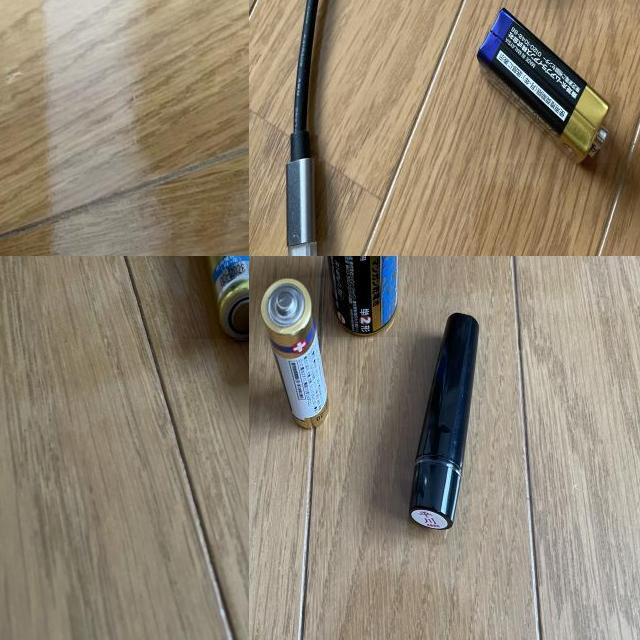9V: (477, 9, 611, 162)
